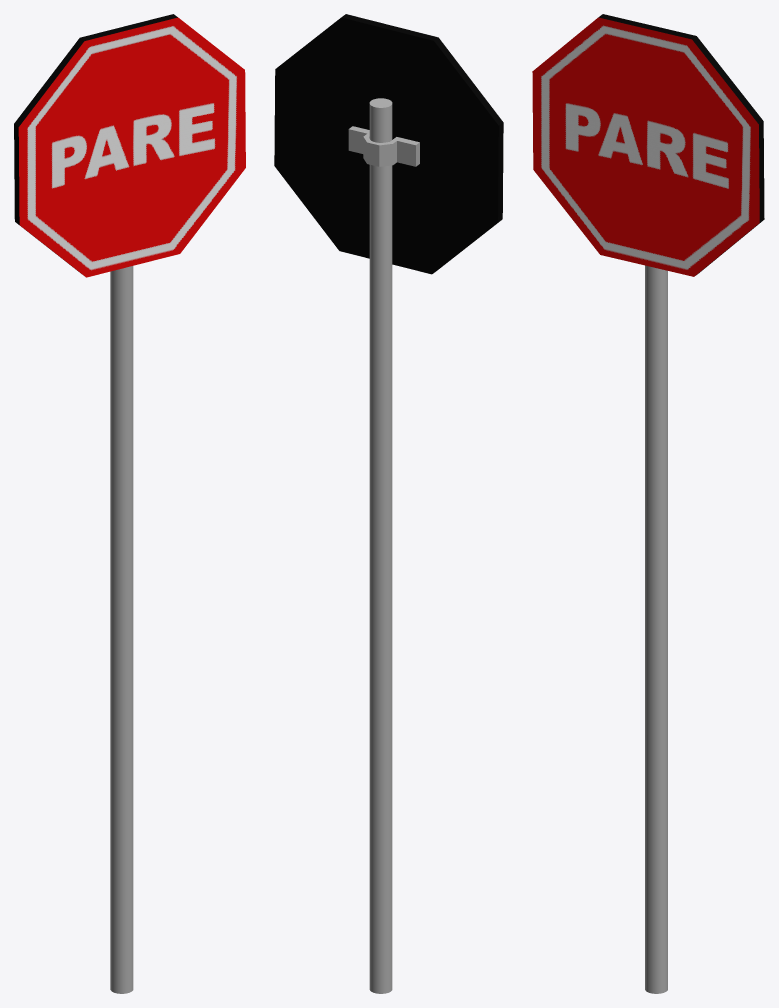
The model's file is PARE2.fbx.
3 views of the same model, side by side, from view 1: azimuth 30°, elevation 25°; view 2: azimuth 150°, elevation 25°; view 3: azimuth 330°, elevation 25° (orthographic).
Visible parts, largest first — view 1: pCylinder3, pCylinder2; view 2: pCylinder3, pCylinder2, pPipe1; view 3: pCylinder3, pCylinder2.
Part boxes in pixels (x1,y1,x2,y2): pCylinder3: (14, 14, 245, 277); pCylinder2: (110, 266, 133, 993); pCylinder3: (274, 14, 503, 274); pCylinder2: (369, 98, 392, 993); pPipe1: (348, 126, 419, 166); pCylinder3: (532, 14, 764, 276); pCylinder2: (645, 265, 667, 993).
Size of the model in its own units: 4.67 by 19.02 by 0.656.
